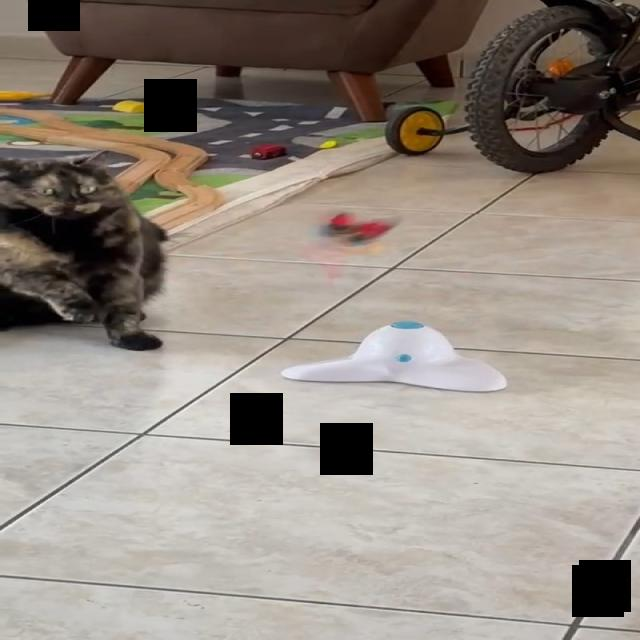authorized: (0, 148, 169, 351)
